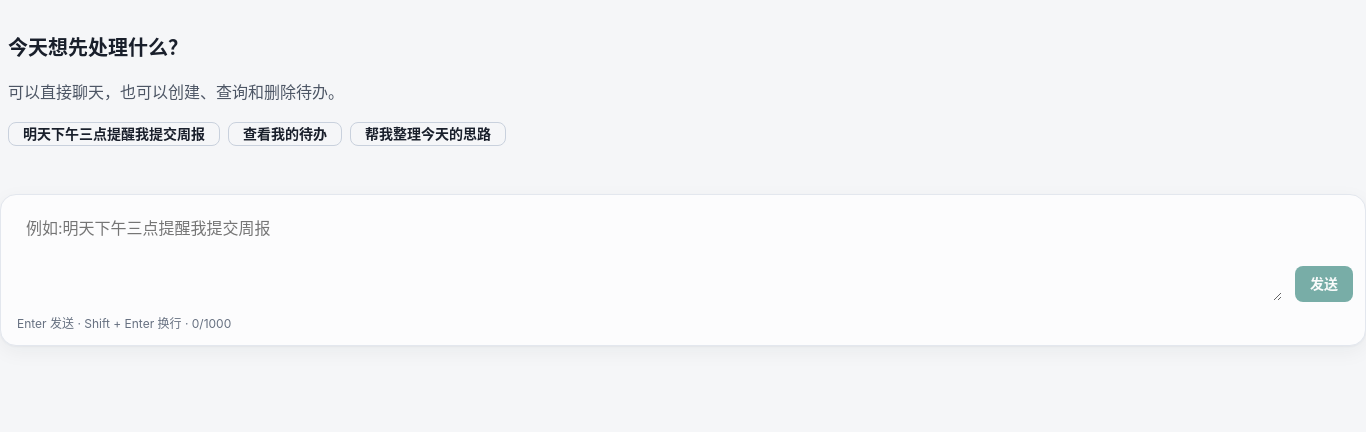
Test: fails closed when the service is unavailable
In the text box named "消息": (650, 254) [17,207,1283,302], type "你好"
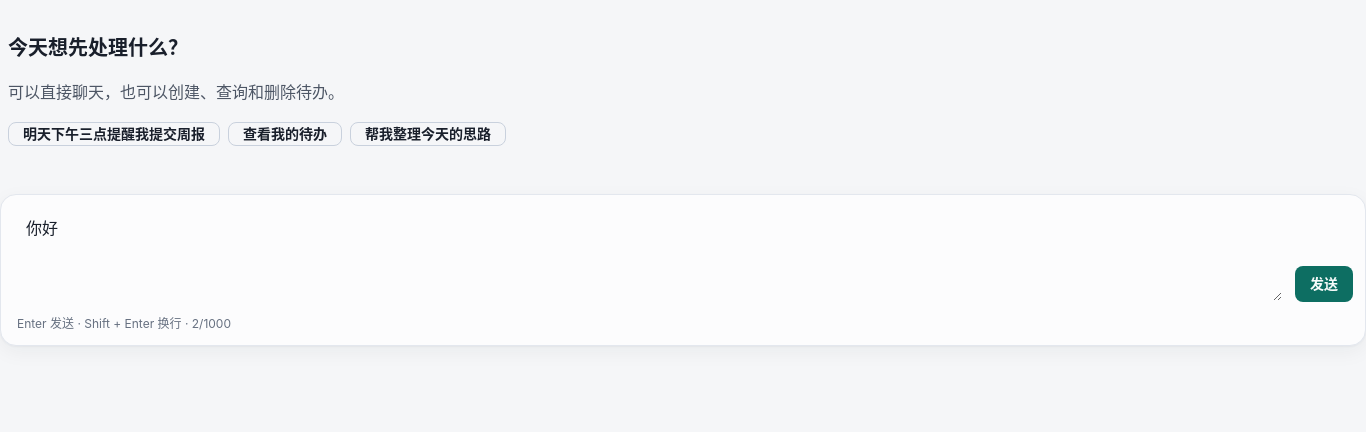
Click the button "发送": (1324, 284) [1295,266,1353,302]
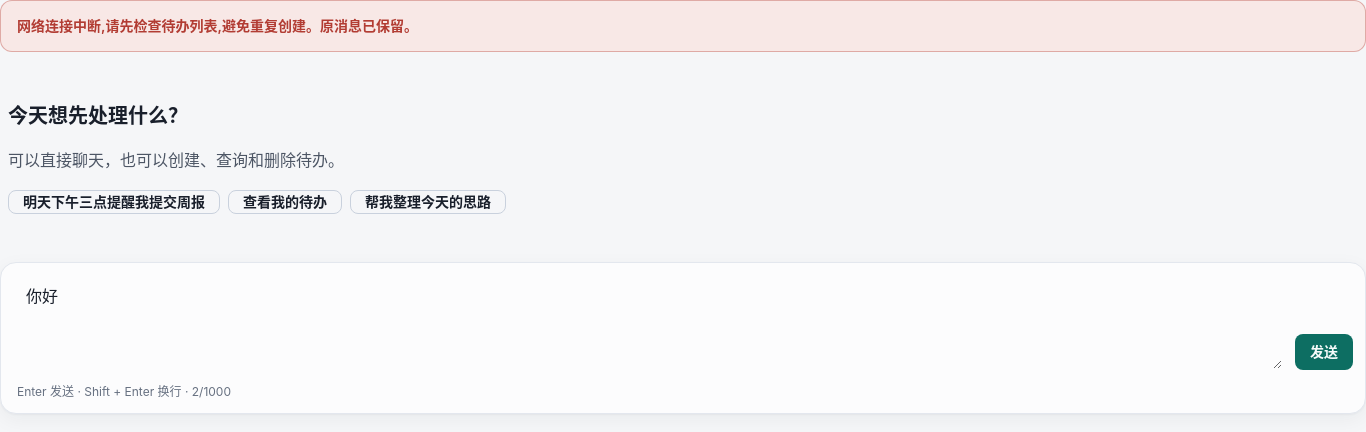
Now the message shows "先检查待办列表", box [17,17,418,34]
